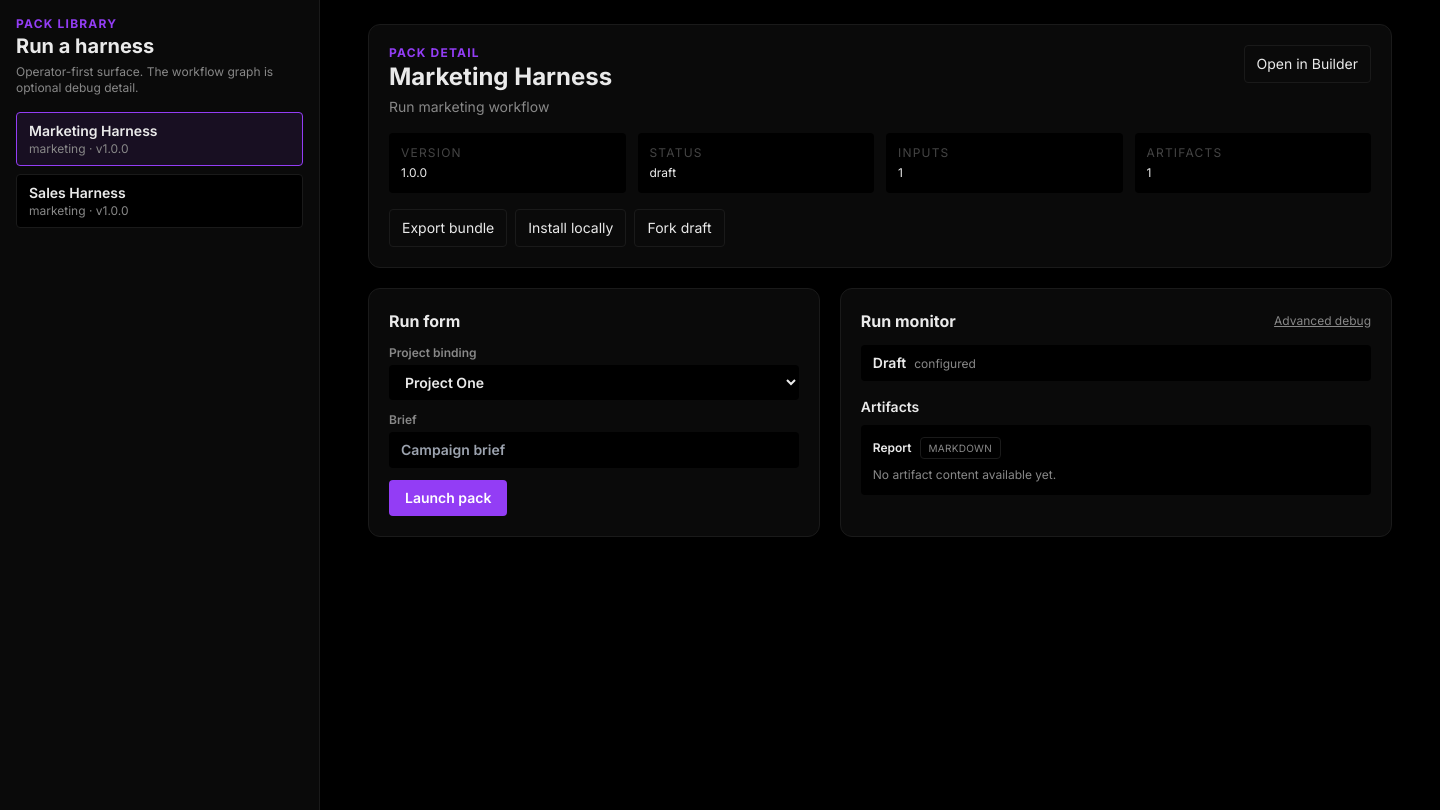
it: PackLibraryView › clears launch errors when the selected pack changes
Check: the text "Pack Detail" is shown, box 389,45 -> 480,60
Click the button "Launch pack". click: [448, 498]
box: 389,480 -> 507,516
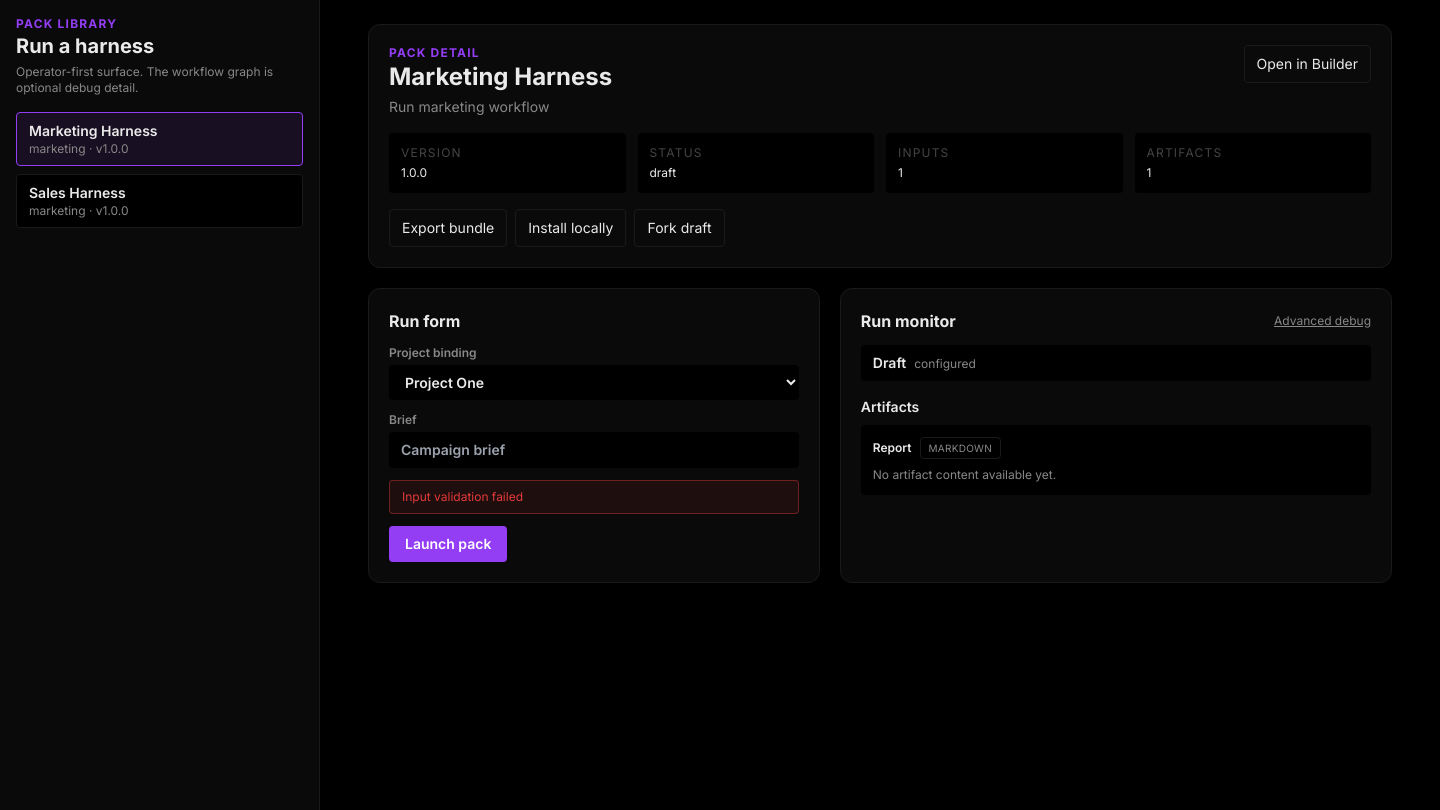
Check: the message reads "Input validation failed", box 402,489 -> 523,504
Click the text "Sales Harness". click: [77, 192]
box: 29,184 -> 126,201
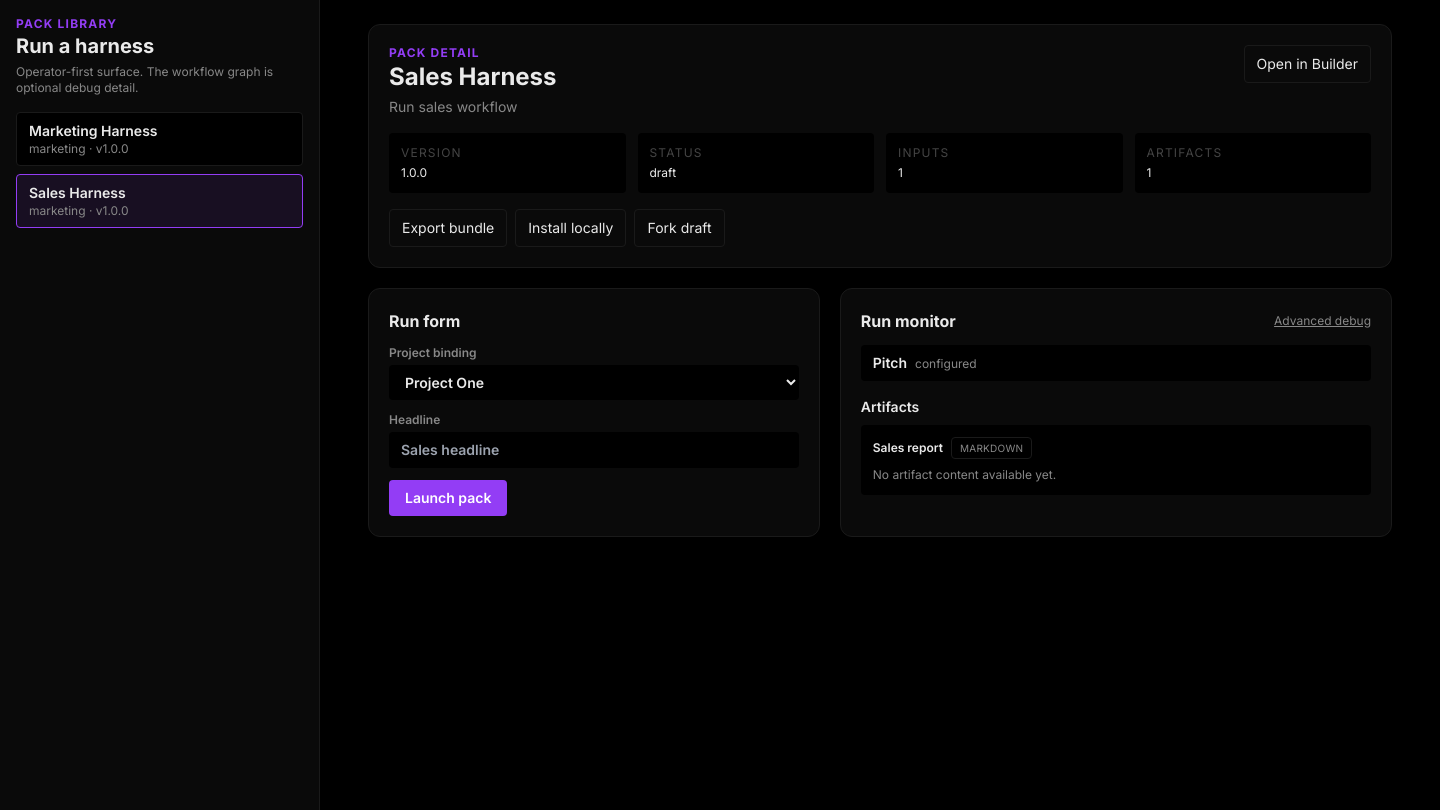
Check: the message "Input validation failed" is gone
